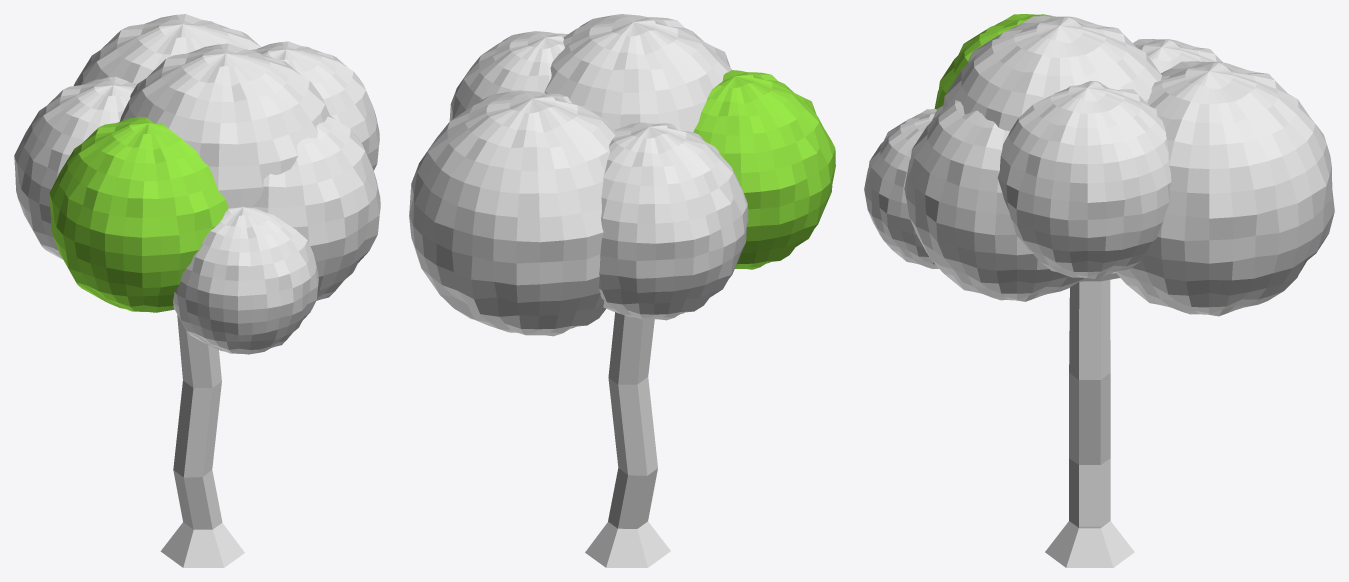
The picture shows the model from 3 angles, left to right: view 1: azimuth 30°, elevation 25°; view 2: azimuth 150°, elevation 25°; view 3: azimuth 270°, elevation 25°; orthographic projection. The views are drawn at different scales.
Visible parts, largest first — view 1: Sphere.001, Sphere.002, Sphere, Sphere.006, Cube, Sphere.004, Sphere.005, Sphere.003; view 2: Sphere.005, Sphere.004, Sphere.001, Sphere.002, Cube, Sphere.003; view 3: Sphere.005, Sphere.003, Sphere.006, Sphere.002, Cube, Sphere, Sphere.004, Sphere.001.
Part boxes in pixels (box(x1,y1,x2,y2)): Sphere.001: box(49, 116, 228, 312); Sphere.002: box(119, 43, 330, 208); Sphere: box(173, 206, 318, 354); Sphere.006: box(252, 115, 380, 300); Cube: box(160, 314, 244, 567); Sphere.004: box(14, 76, 136, 259); Sphere.005: box(73, 14, 260, 85); Sphere.003: box(251, 41, 379, 170); Sphere.005: box(409, 90, 615, 336); Sphere.004: box(599, 122, 748, 320); Sphere.001: box(693, 70, 835, 269); Sphere.002: box(544, 14, 731, 131); Cube: box(585, 312, 670, 567); Sphere.003: box(449, 31, 567, 120); Sphere.005: box(1116, 61, 1334, 316); Sphere.003: box(997, 81, 1171, 279); Sphere.006: box(904, 100, 1083, 301); Sphere.002: box(943, 16, 1161, 131); Cube: box(1045, 272, 1134, 567); Sphere: box(864, 109, 938, 268); Sphere.004: box(1132, 39, 1222, 73); Sphere.001: box(934, 14, 1052, 109).
Bounding box in the file's own units: 2299 × 3392 × 2726.
